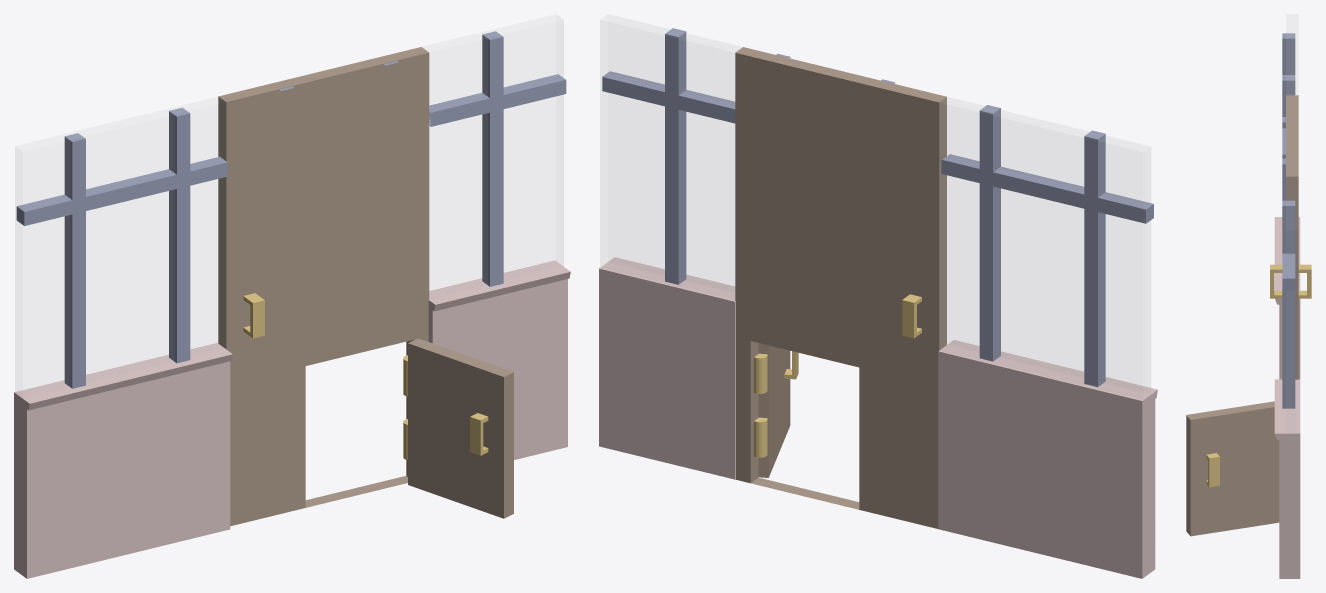
File: WallBlockDoor.fbx
3 renders of one model, left to right at view 1: azimuth 30°, elevation 25°; view 2: azimuth 150°, elevation 25°; view 3: azimuth 270°, elevation 25°, orthographic. The views are drawn at different scales.
Visible parts, largest first — view 1: 立方体.037; view 2: 立方体.037; view 3: 立方体.037.
Boxes of the visible parts, left/top/right/bottom form: 立方体.037: left=14, top=15, right=570, bottom=578; 立方体.037: left=599, top=15, right=1157, bottom=578; 立方体.037: left=1186, top=14, right=1311, bottom=578.
Size of the model in its own units: 800 by 600 by 196.
